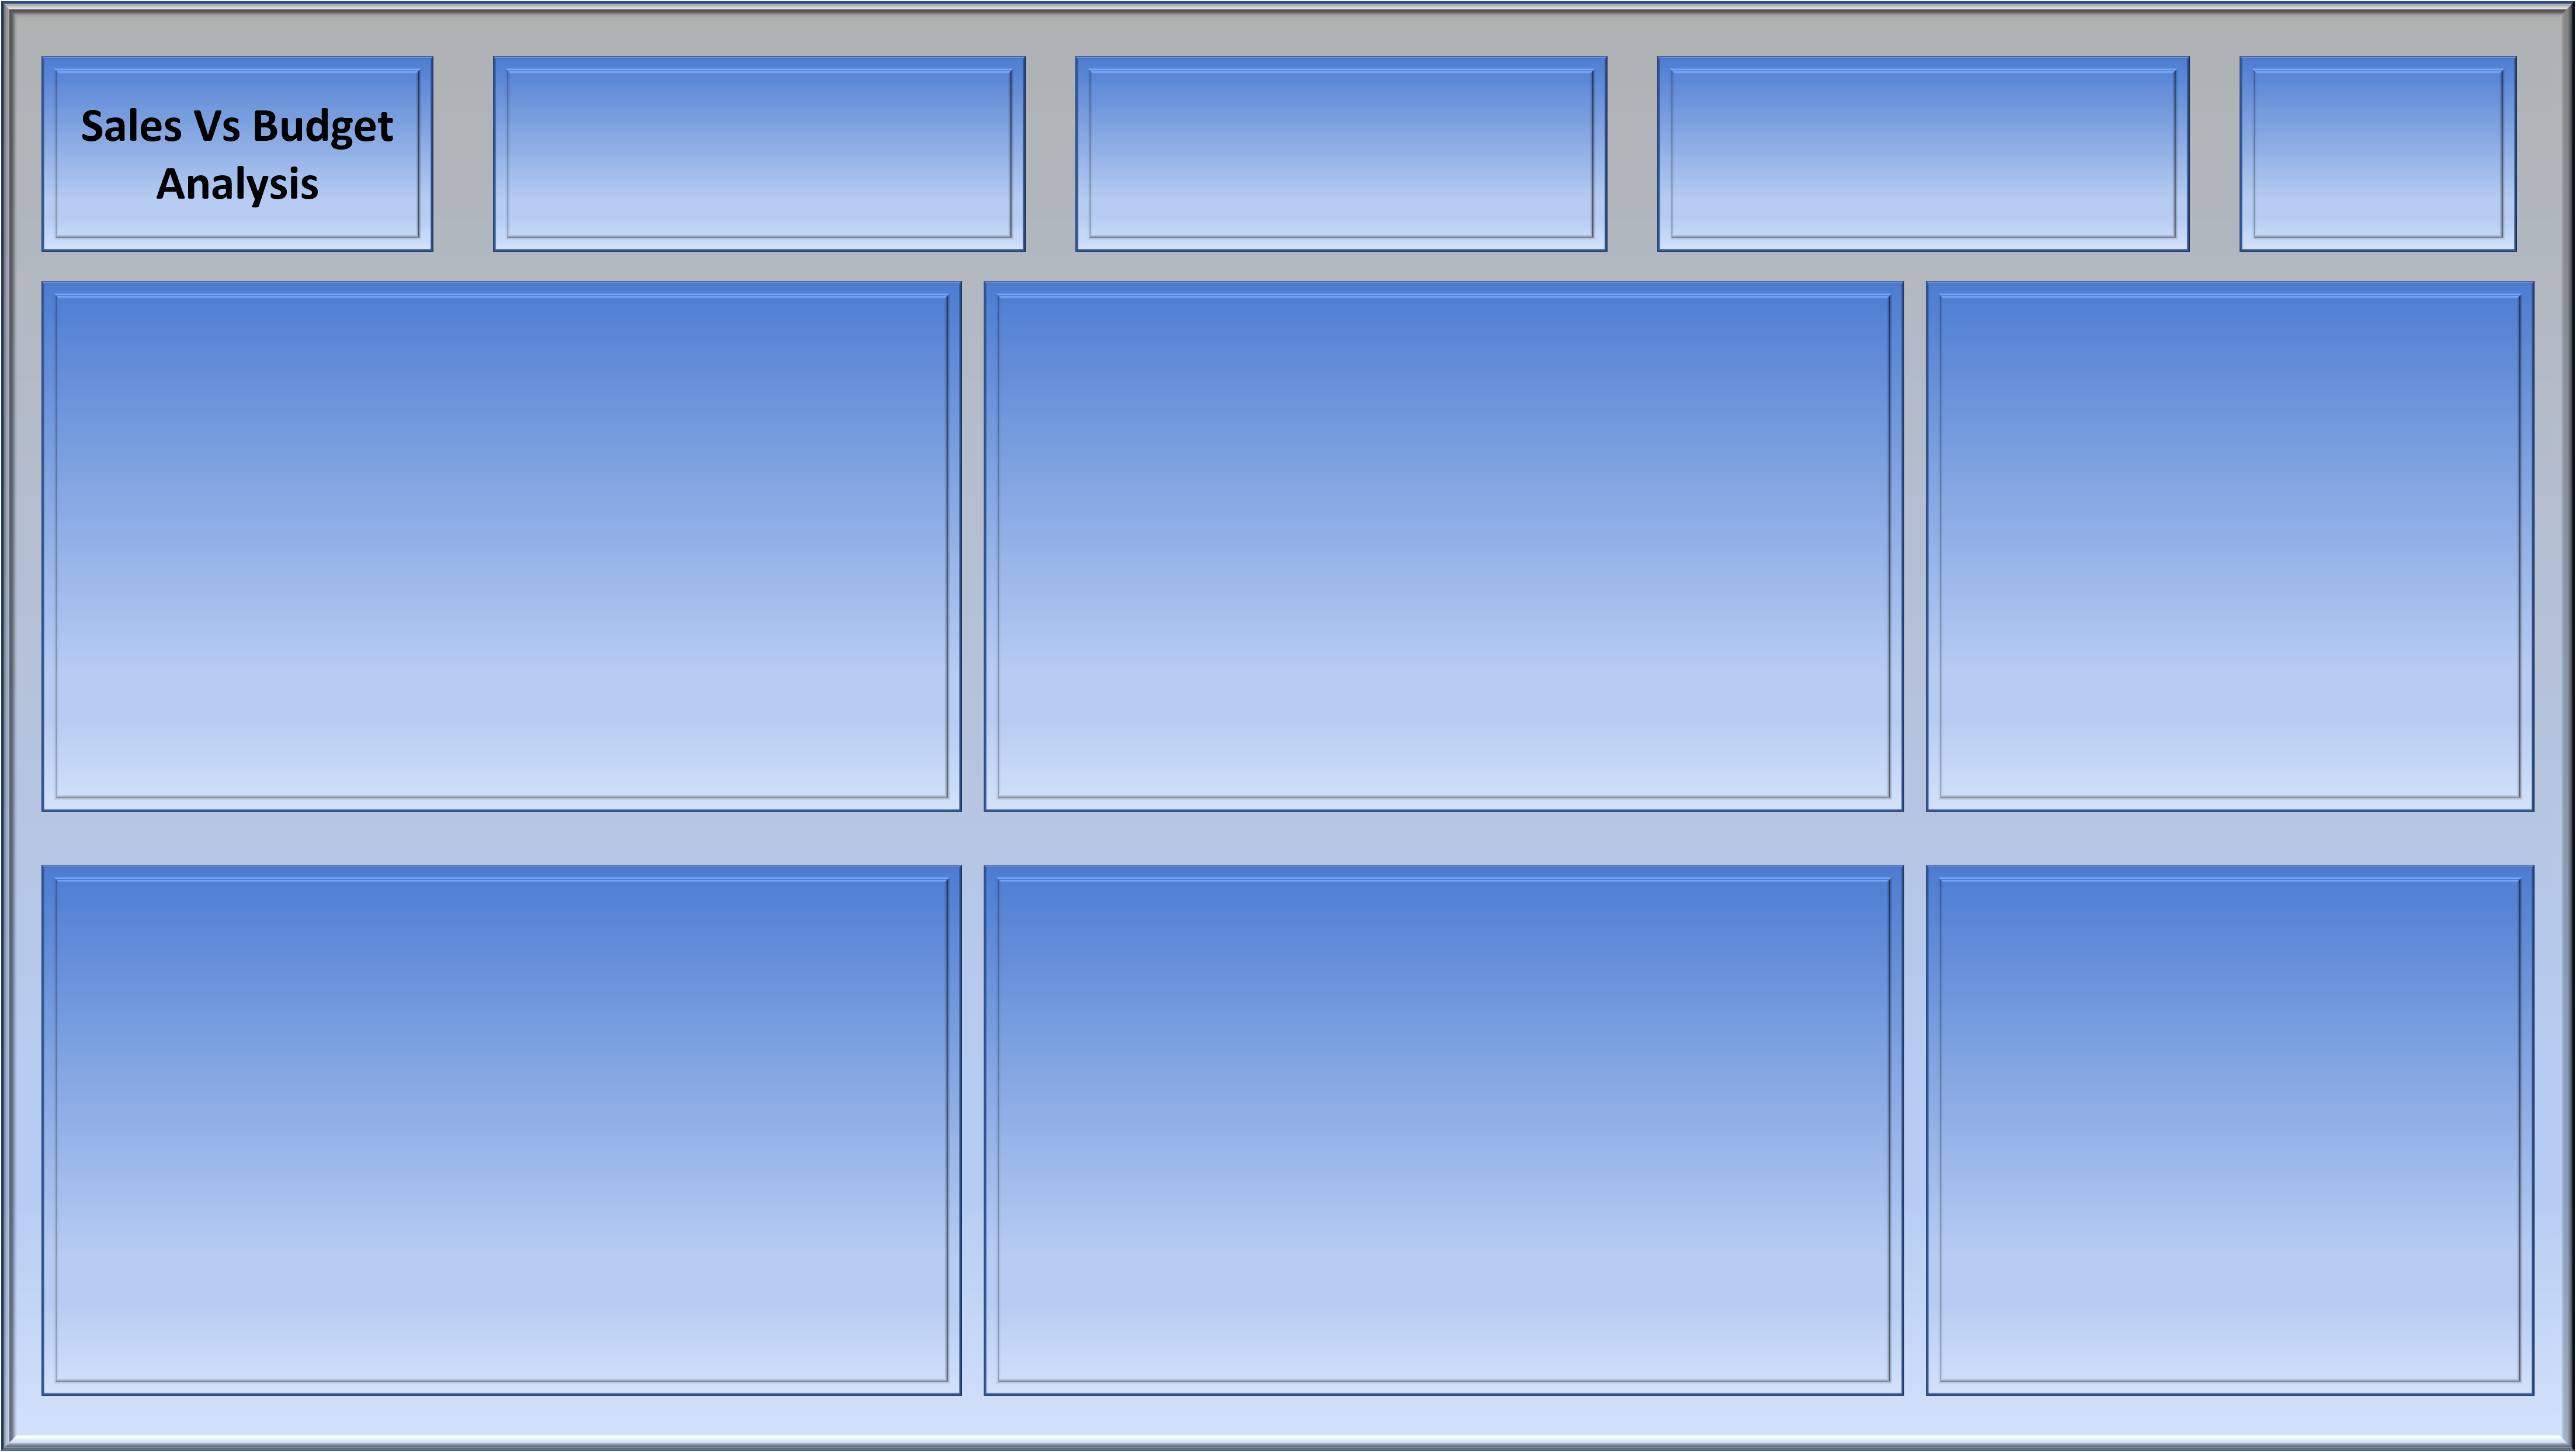

Layout of this report page (visuals, bound fields, positions):
{"tool":"powerbi","page":{"name":"Sales and Budget","canvas":[1280,720],"ordinal":0},"visuals":[{"type":"clusteredBarChart","fields":{"Y":["Sales.Sales","Budget.Budget"],"Category":["Product.Category","Product.SubCategory"]},"box":[27.3,147.9,443.6,245.7],"z":1000},{"type":"tableEx","title":"Top Products","fields":{"Values":["Product.ProductName","Sales.Sales"]},"box":[983.1,147.8,268.6,245.5],"z":2000},{"type":"tableEx","title":"Top Customers","fields":{"Values":["Customer.FullName","Sales.Sales"]},"box":[993.4,439.5,248,245.5],"z":3000},{"type":"card","fields":{"Values":["Budget.Variance%"]},"box":[1122.7,36.4,119.4,80.8],"z":4000},{"type":"card","fields":{"Values":["Budget.Variance"]},"box":[830.3,35.3,246.8,80.8],"z":5000},{"type":"card","fields":{"Values":["Budget.Budget"]},"box":[544.8,35.3,247,80.8],"z":6000},{"type":"card","fields":{"Values":["Sales.Sales"]},"box":[250.2,35.3,248,81.9],"z":7000},{"type":"clusteredBarChart","fields":{"Category":["Product.Category","Product.SubCategory"],"Y":["Budget.Variance"]},"box":[498.2,147.9,442.5,245.7],"z":8000},{"type":"lineChart","fields":{"Y":["Sales.Sales","Budget.Budget"],"Category":["Calendar.Month"]},"box":[27.3,439.1,443.6,245.7],"z":9000},{"type":"clusteredColumnChart","fields":{"Category":["Calendar.Month"],"Y":["Budget.Variance"]},"box":[498.2,439.1,442.5,245.7],"z":10000}]}

Visuals, with their boxes in screenshot pixels (x1, y1, x2, y2), scaled from the page's 1280x720 canvas onto the 2576x1452 screenshot:
clusteredBarChart - Sales.Sales x Budget.Budget: [left=55, top=298, right=947, bottom=793]
"Top Products" tableEx: [left=1978, top=298, right=2519, bottom=793]
"Top Customers" tableEx: [left=1999, top=886, right=2498, bottom=1381]
card - Budget.Variance%: [left=2259, top=74, right=2499, bottom=237]
card - Budget.Variance: [left=1671, top=71, right=2168, bottom=234]
card - Budget.Budget: [left=1096, top=71, right=1593, bottom=234]
card - Sales.Sales: [left=504, top=71, right=1002, bottom=237]
clusteredBarChart - Product.Category x Product.SubCategory: [left=1002, top=298, right=1893, bottom=793]
lineChart - Sales.Sales x Budget.Budget: [left=55, top=886, right=947, bottom=1381]
clusteredColumnChart - Calendar.Month x Budget.Variance: [left=1002, top=886, right=1893, bottom=1381]
